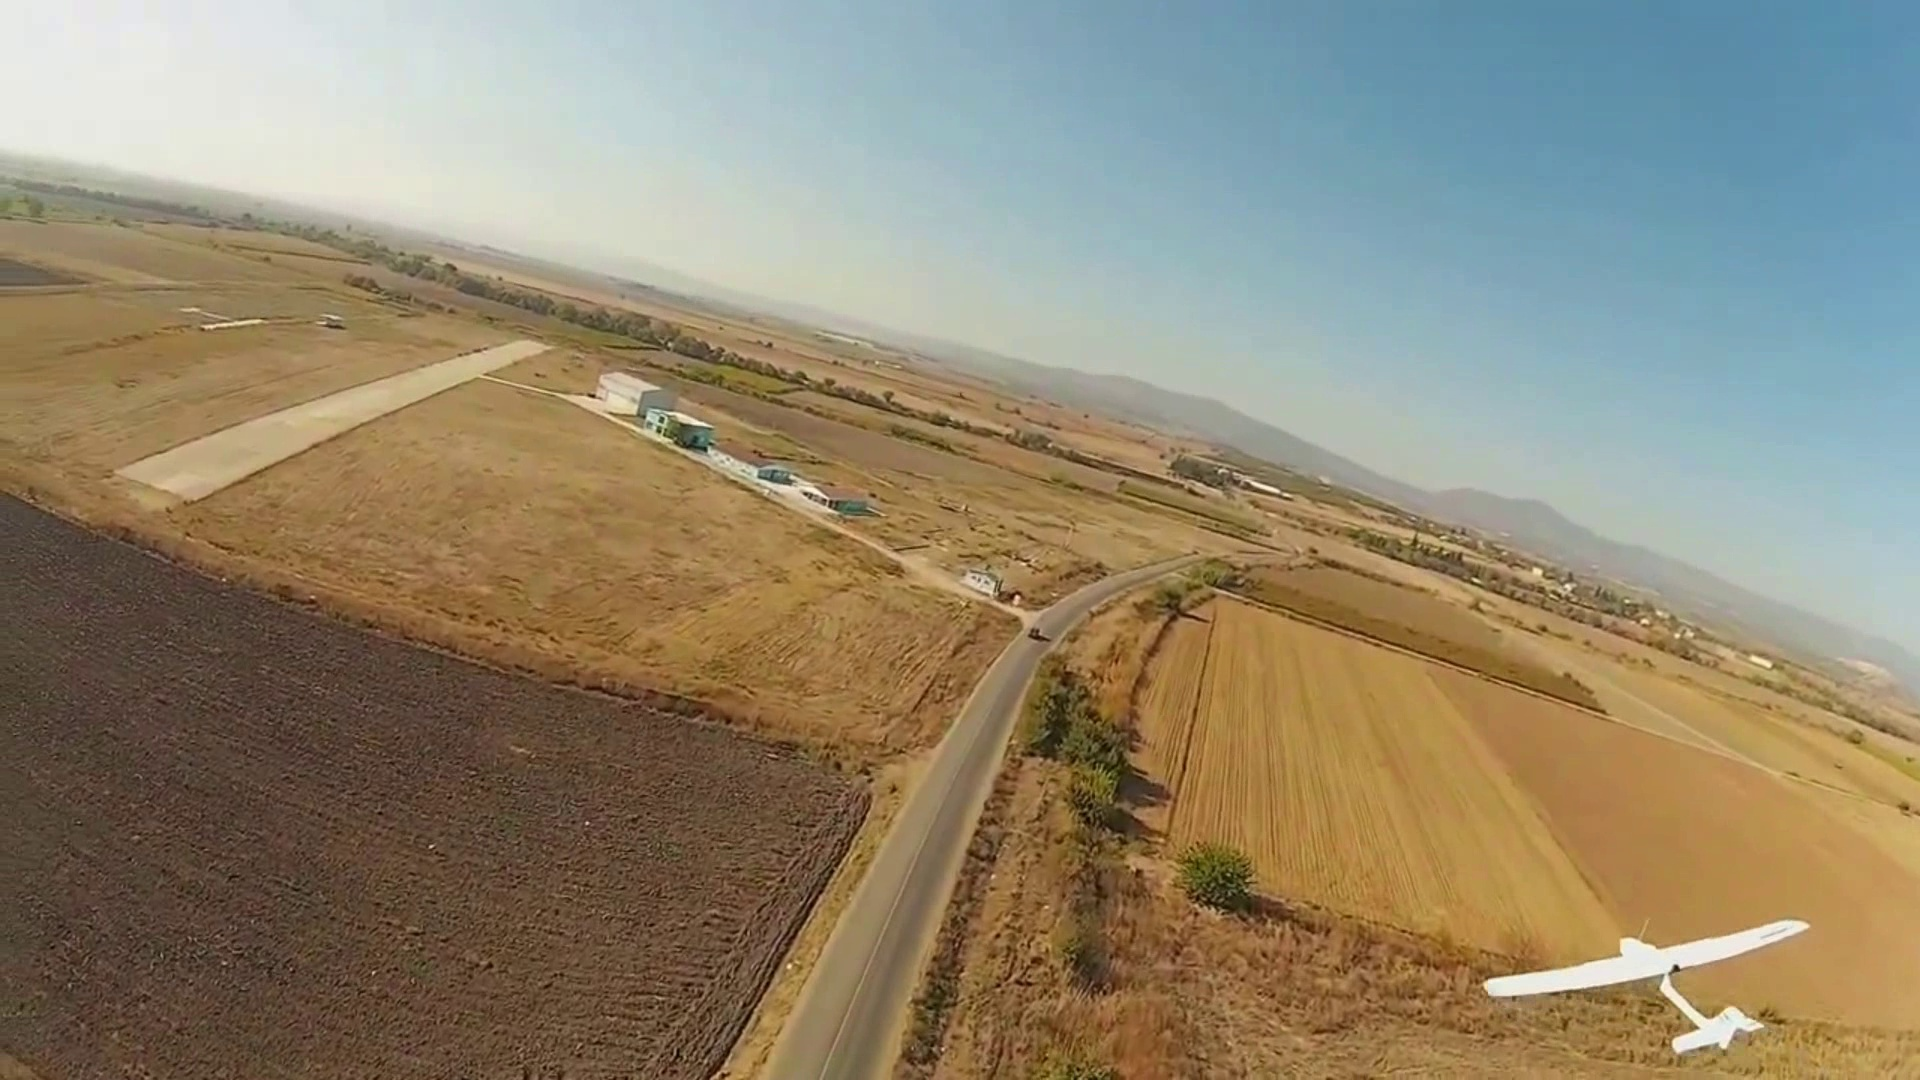airplane: (1482, 919, 1809, 1056)
